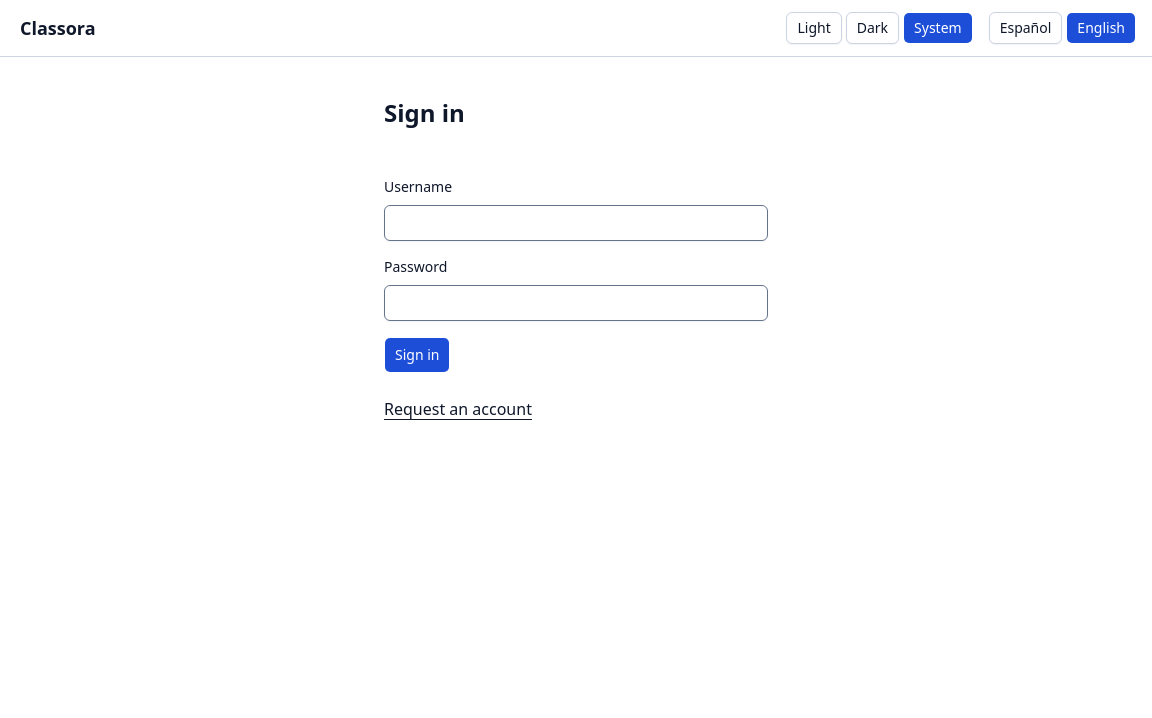
Test: route and links (F1) › the login page links to /register
Click the link "Request an account" at point(458, 409), box [384,397,532,421]
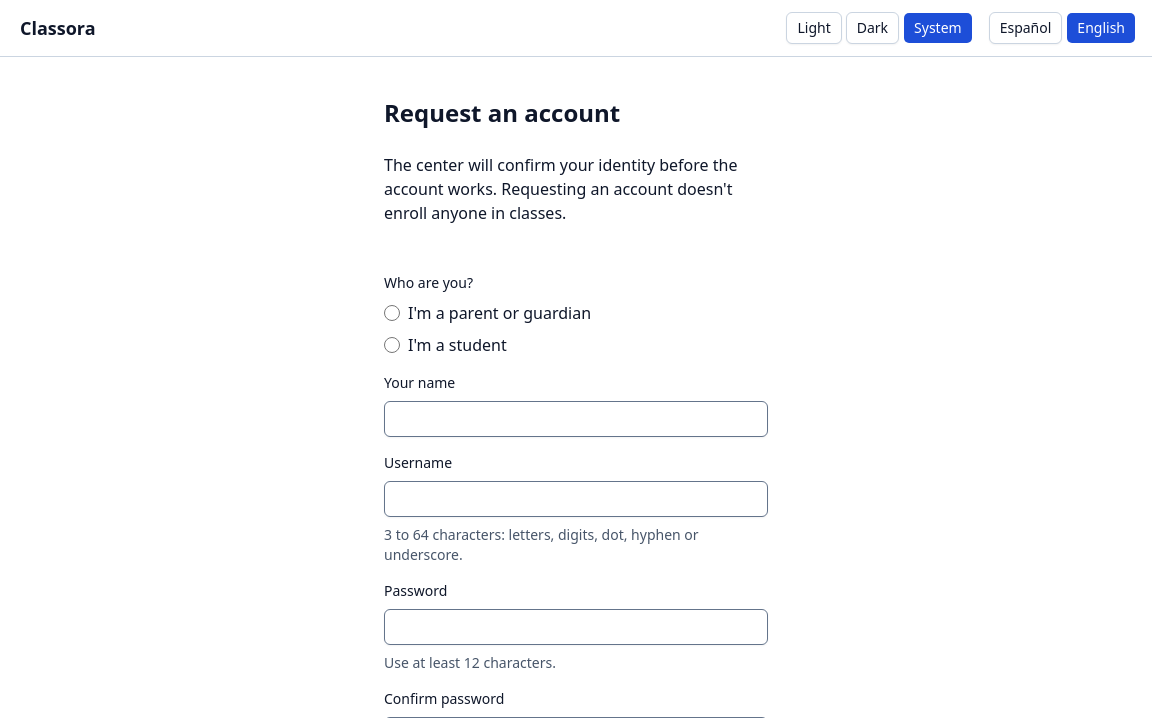
Now the heading "Request an account" is shown, box [384,96,620,129]
